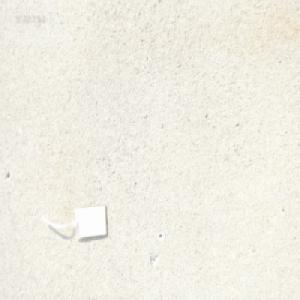LuggageTag: (42, 200, 111, 242)
